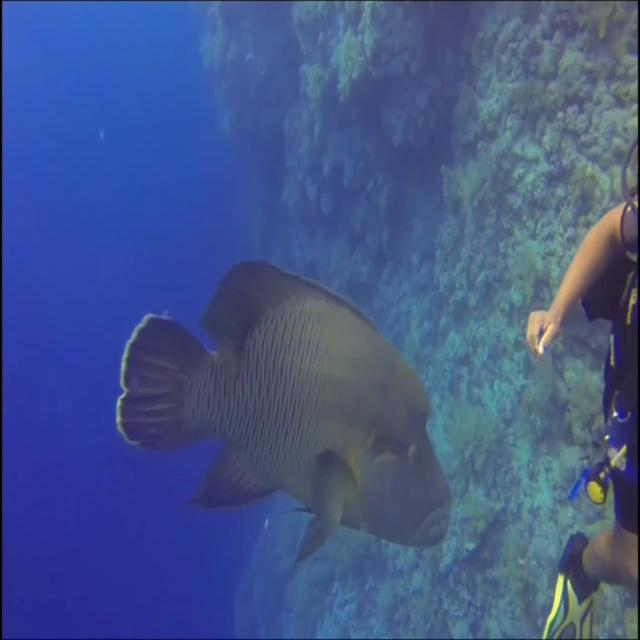Napoleon -Endangered-: (117, 258, 454, 567)
